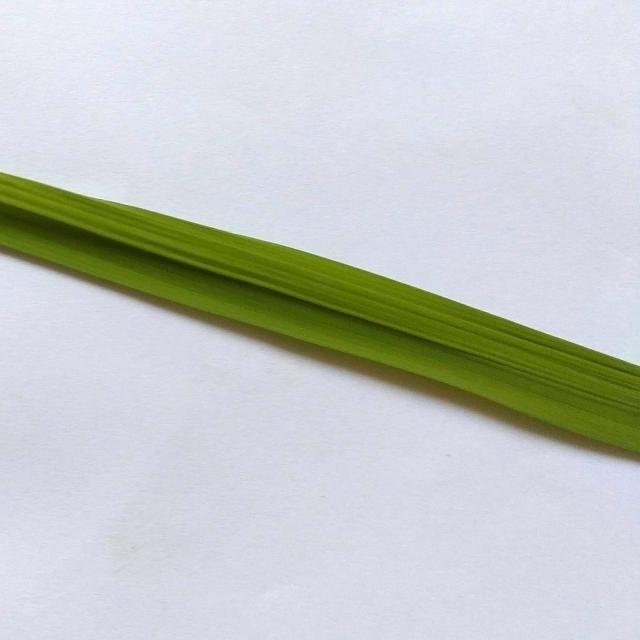healthy: (0, 126, 640, 482)
